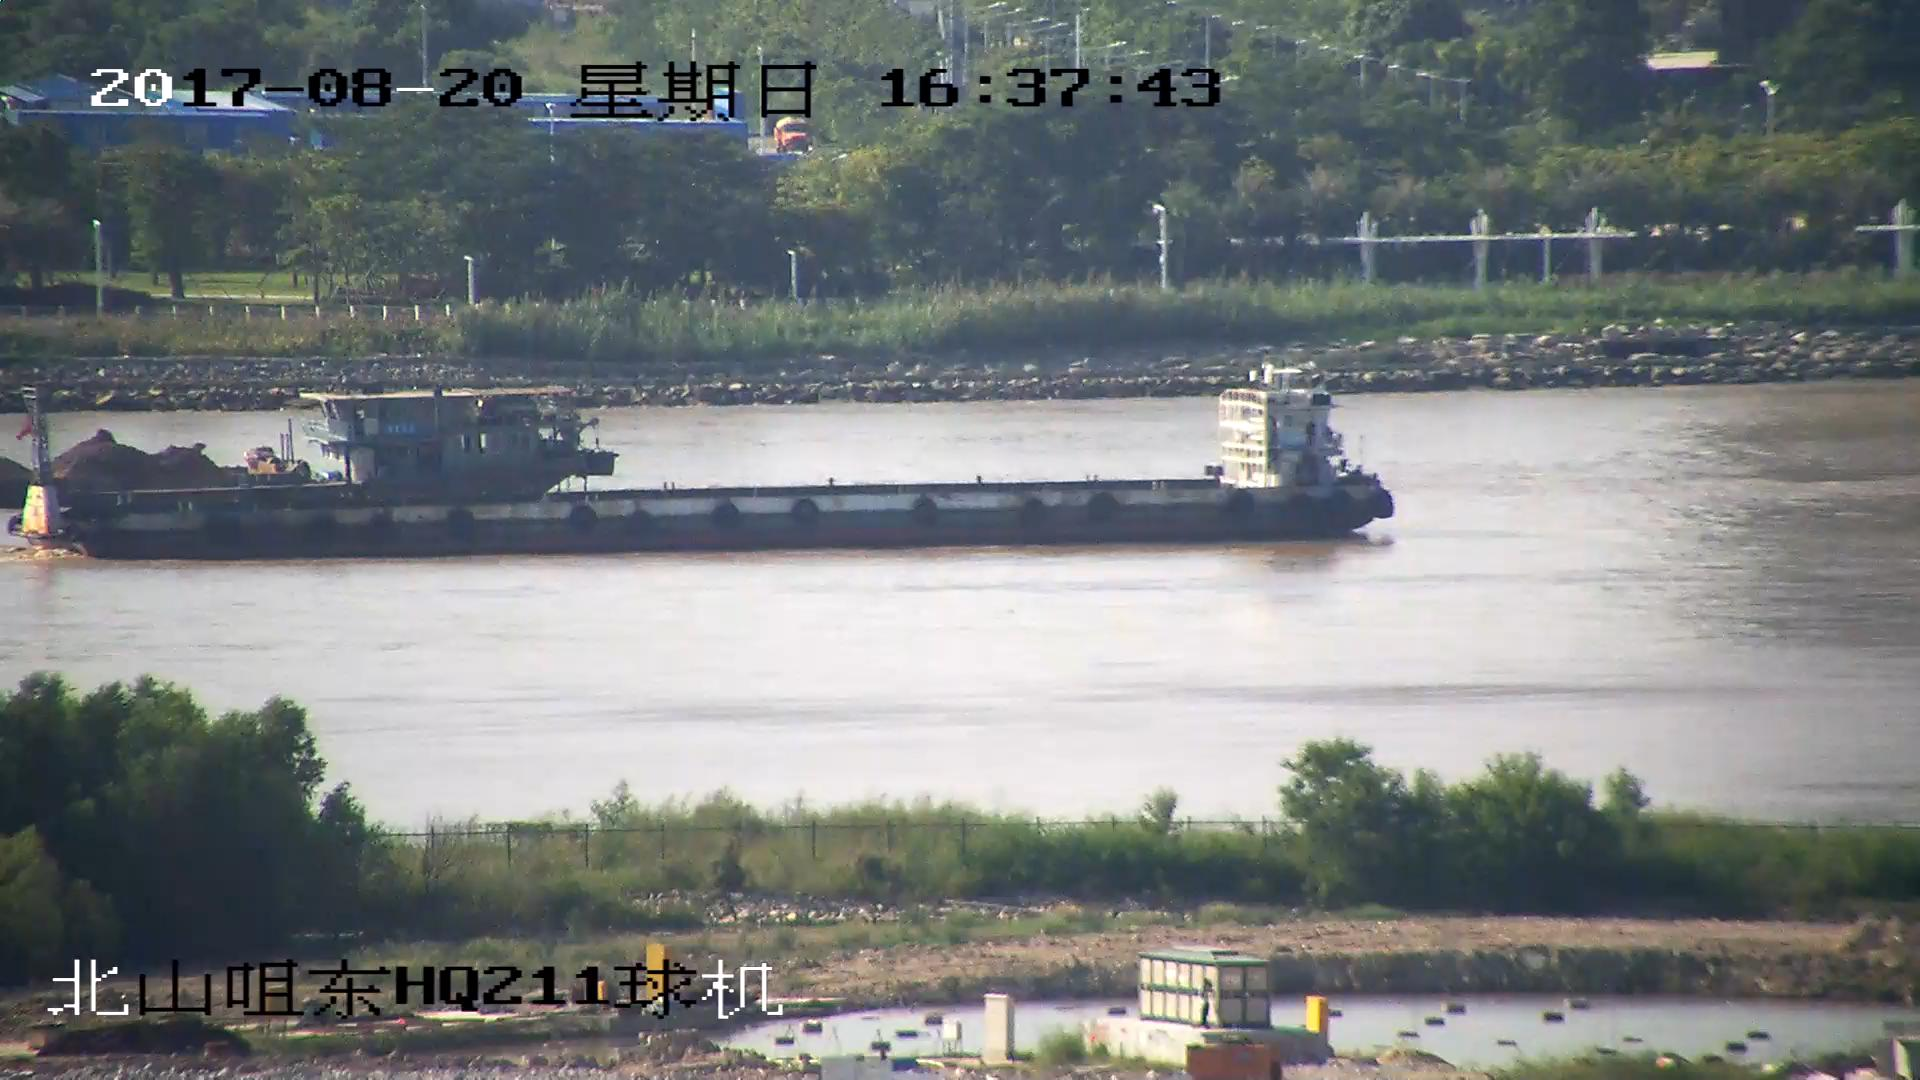general cargo ship: (18, 374, 1402, 565)
ore carrier: (1, 391, 612, 509)
